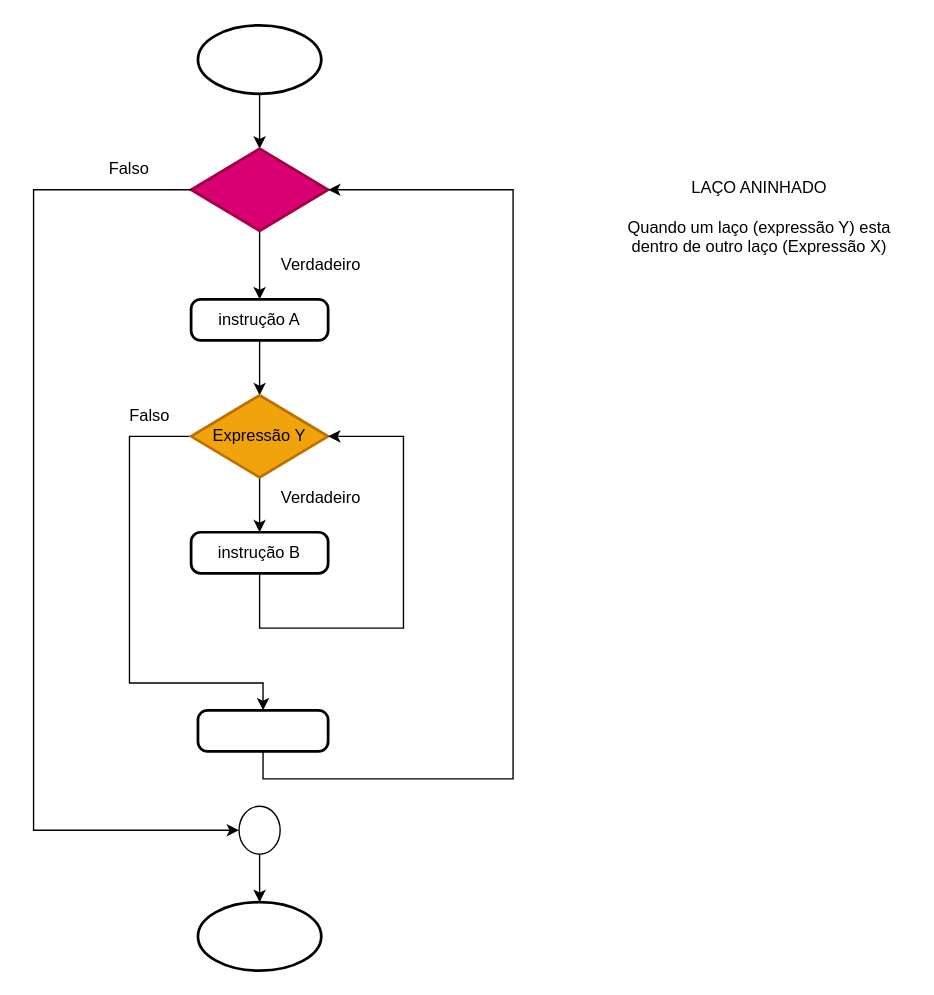
Some shapes in this 934 by 995 pixel diagram are drawn without their labels. The shapes that lost their labels are listed below. From the top down, each one's centre as x and y in pixels, then its label:
At (259,189): "Expressão X".
At (262,730): "instrução C".
